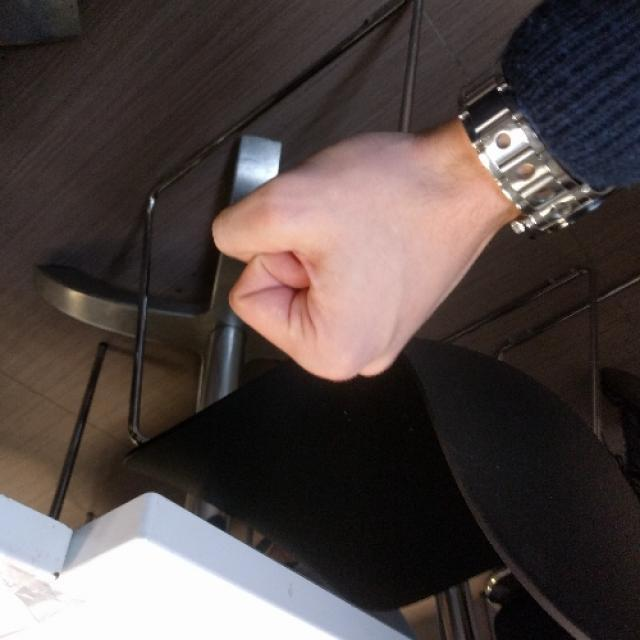rock: (211, 130, 469, 383)
